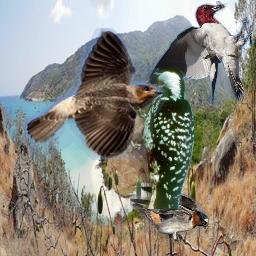Swallow: (24, 28, 168, 160), (130, 186, 209, 245)
Woodpecker: (110, 67, 194, 209), (149, 1, 253, 106)
